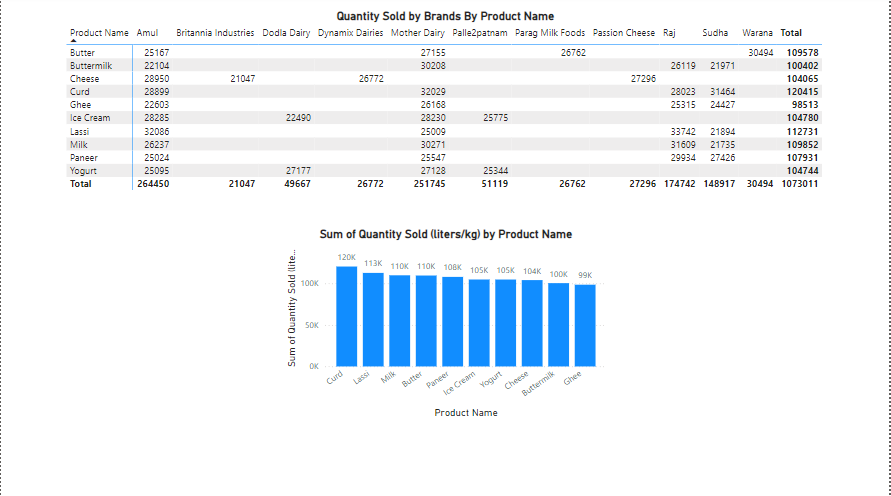

The dashboard page shown, as its layout file describes it:
{"tool":"powerbi","page":{"name":"Page 8","canvas":[1280,720],"ordinal":7},"visuals":[{"type":"pivotTable","title":"Quantity Sold by Brands By Product Name","fields":{"Rows":["dairy_dataset.Product Name"],"Columns":["dairy_dataset.Brand"],"Values":["Sum(dairy_dataset.Quantity Sold (liters/kg))"]},"box":[89.3,18.7,1101.6,269.3],"z":0},{"type":"columnChart","fields":{"Category":["dairy_dataset.Product Name"],"Y":["Sum(dairy_dataset.Quantity Sold (liters/kg))"]},"box":[404.6,332.6,472.3,280.8],"z":1}]}

Visuals, with their boxes in screenshot pixels (x1, y1, x2, y2), scaled from the page's 1280x720 canvas onto the 891x496 screenshot:
"Quantity Sold by Brands By Product Name" pivotTable: [62, 13, 829, 198]
columnChart - dairy_dataset.Product Name x Sum(dairy_dataset.Quantity Sold (liters/kg)): [282, 229, 610, 423]
